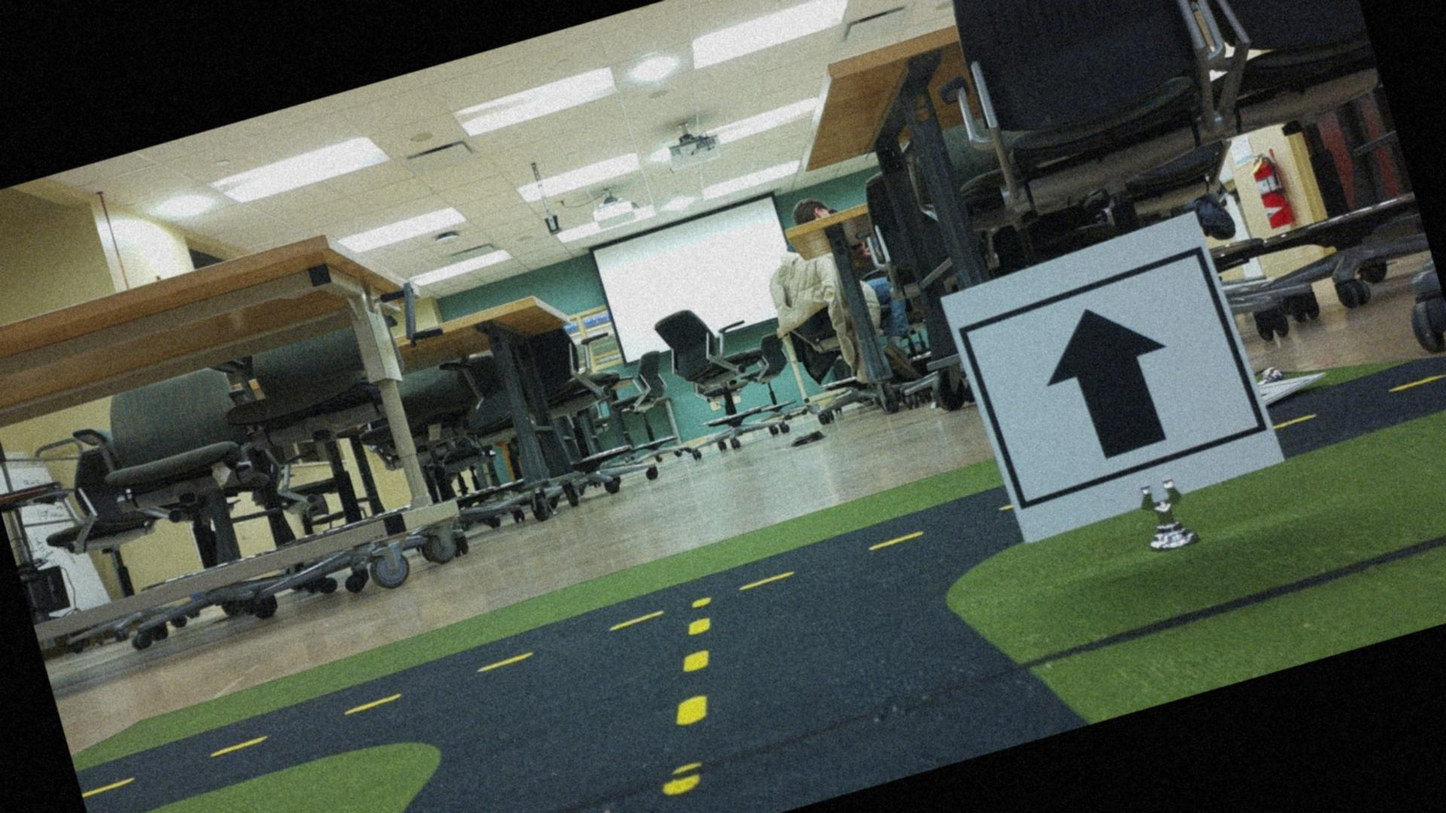gostraight: (953, 227, 1261, 525)
yellowline: (76, 647, 534, 797), (624, 595, 758, 796), (738, 528, 924, 595)
